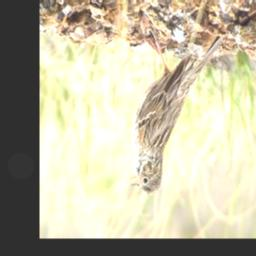Sparrow: (123, 21, 229, 200)
